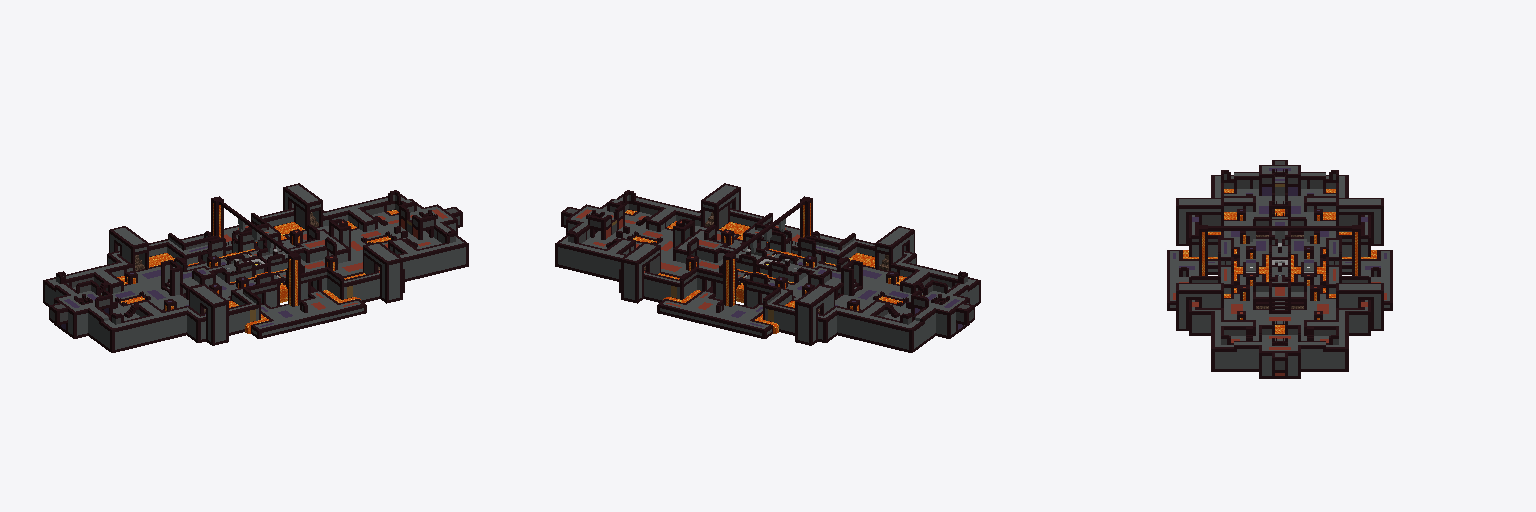
3 renders of one model, left to right at view 1: azimuth 30°, elevation 25°; view 2: azimuth 150°, elevation 25°; view 3: azimuth 270°, elevation 25°, orthographic.
Size of the model in its own units: 147 by 20 by 71.
Materials: 20 (7 with a texture image).